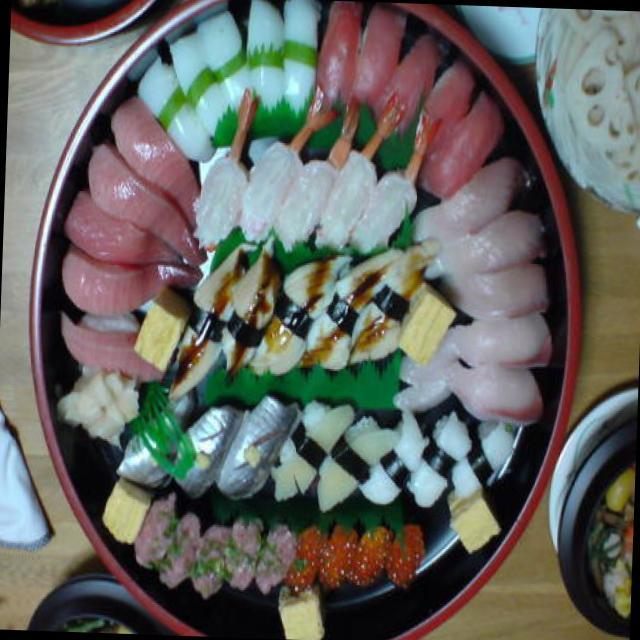Sushi: (50, 45, 548, 612)
